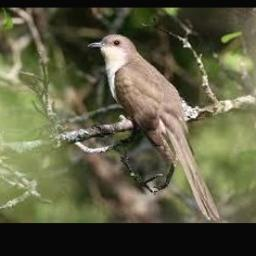Cuckoo: (88, 34, 218, 221)
